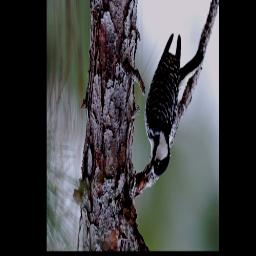Woodpecker: (142, 32, 204, 182)
